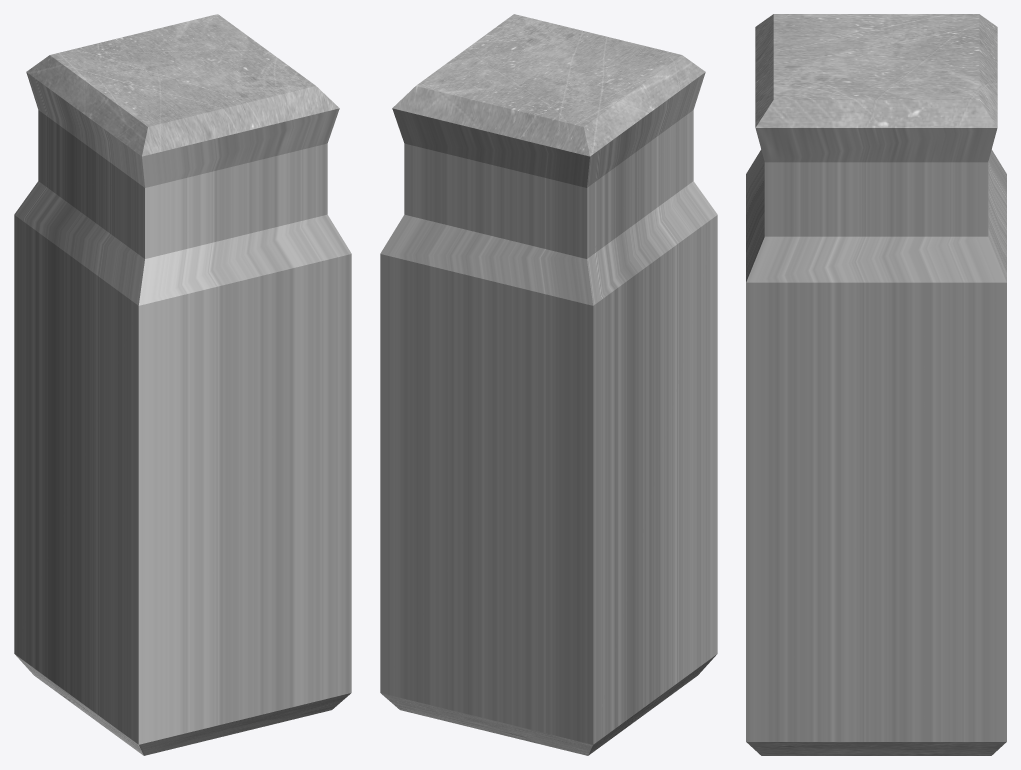
The model's file is bottle.glb.
The picture shows the model from 3 angles, left to right: view 1: azimuth 30°, elevation 25°; view 2: azimuth 150°, elevation 25°; view 3: azimuth 270°, elevation 25°; orthographic projection. The views are drawn at different scales.
Visible parts, largest first — view 1: Cube.001; view 2: Cube.001; view 3: Cube.001.
Boxes of the visible parts, x1,y1,x2,y2 form: Cube.001: (14, 14, 351, 755); Cube.001: (380, 14, 717, 755); Cube.001: (746, 14, 1006, 755).
Size of the model in its own units: 0.674 by 1.88 by 0.6827.
1 material, 1 textured.
